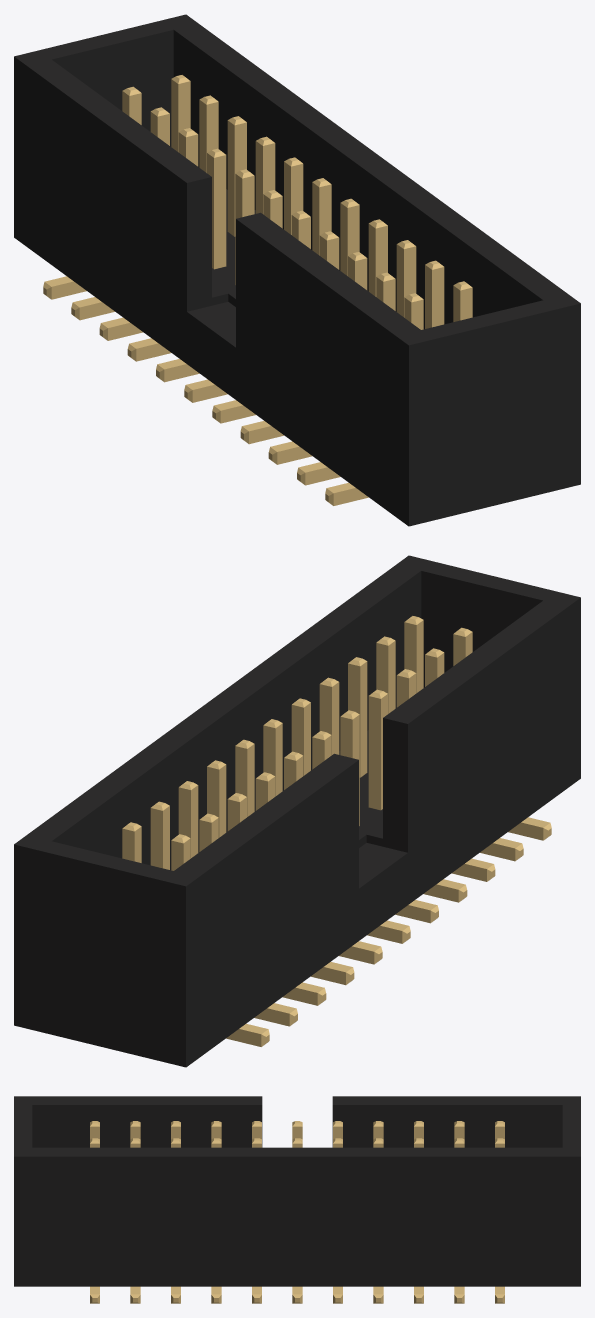
The model's file is kc-idc-header_2x11_p2.54mm_vertical_smd.glb.
3 views of the same model, one above another, from view 1: azimuth 30°, elevation 25°; view 2: azimuth 150°, elevation 25°; view 3: azimuth 270°, elevation 25° (orthographic). The views are drawn at different scales.
Parts seen in each view (by area): view 1: 0_0_0_0, 0.75_0.5_0.25_0.9; view 2: 0_0_0_0, 0.75_0.5_0.25_0.9; view 3: 0_0_0_0, 0.75_0.5_0.25_0.9.
Boxes of the visible parts, x1=… form: 0_0_0_0: x1=14, y1=14, x2=580, y2=526; 0.75_0.5_0.25_0.9: x1=43, y1=75, x2=472, y2=505; 0_0_0_0: x1=14, y1=555, x2=580, y2=1067; 0.75_0.5_0.25_0.9: x1=122, y1=616, x2=551, y2=1046; 0_0_0_0: x1=14, y1=1096, x2=580, y2=1286; 0.75_0.5_0.25_0.9: x1=90, y1=1121, x2=504, y2=1303.
Bounding box in the file's own units: 1.16 × 0.964 × 3.56.
